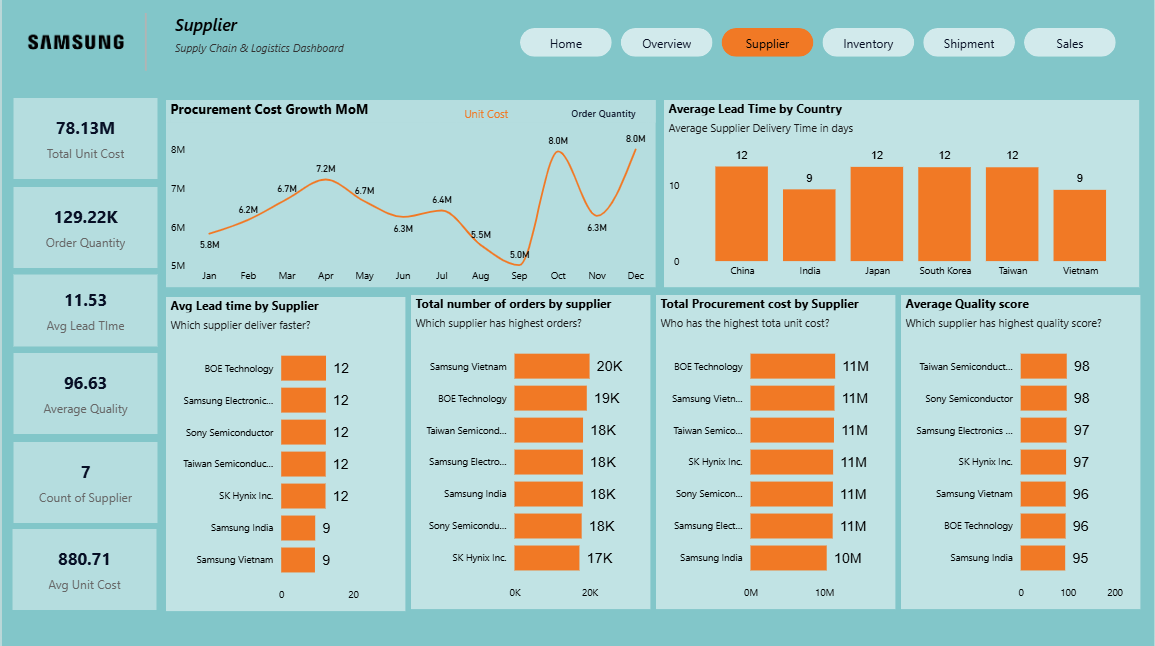

This screenshot's page, from the dashboard's own definition file:
{"tool":"powerbi","page":{"name":"Supplier","canvas":[1280,720],"ordinal":2},"visuals":[{"type":"shape","title":"Supplier","box":[192,16,224,64],"z":0},{"type":"shape","box":[128,16,64,64],"z":1000},{"type":"image","box":[16,16,128,64],"z":2000},{"type":"cardVisual","fields":{"Data":["MeasuresTable.Order_QTY"]},"box":[7.7,209,170,90],"z":3000},{"type":"cardVisual","fields":{"Data":["MeasuresTable.Avg_Lead_TIme"]},"box":[7.7,301,170,90],"z":4000},{"type":"cardVisual","fields":{"Data":["fact_procurement.Avg_Quality_score"]},"box":[7.7,393,170,90],"z":5000},{"type":"cardVisual","fields":{"Data":["fact_procurement.Avg_Unit_Cost"]},"box":[7,589,170,90],"z":6000},{"type":"cardVisual","fields":{"Data":["CountNonNull(dim_supplier.supplier_id)"]},"box":[7.7,492,170,90],"z":7000},{"type":"cardVisual","fields":{"Data":["fact_procurement.Total_Unit_Cost"]},"box":[7.7,109.7,170,90],"z":8000},{"type":"clusteredBarChart","title":"Avg Lead time by Supplier","fields":{"Y":["MeasuresTable.Avg_Lead_TIme"],"Category":["dim_supplier.supplier_name"]},"box":[181.8,331.7,266,349],"z":9000},{"type":"clusteredBarChart","title":"Total number of orders by supplier","fields":{"Category":["dim_supplier.supplier_name"],"Y":["MeasuresTable.Order_QTY"]},"box":[454,329.1,266,349],"z":10000},{"type":"clusteredBarChart","title":"Total Procurement cost by Supplier","fields":{"Y":["fact_procurement.Total_Unit_Cost"],"Category":["dim_supplier.supplier_name"]},"box":[726.2,329.1,266,349],"z":11000},{"type":"clusteredColumnChart","title":"Average Lead Time by Country","fields":{"Category":["dim_supplier.country","dim_supplier.supplier_name"],"Y":["MeasuresTable.Avg_Lead_TIme"]},"box":[736,112,528,208],"z":12000},{"type":"clusteredBarChart","title":"Average Quality score","fields":{"Y":["fact_procurement.Avg_Quality_score"],"Category":["dim_supplier.supplier_name"]},"box":[998.4,329.1,266,349],"z":13000},{"type":"lineChart","title":"Procurement Cost Growth MoM","fields":{"Y":["fact_procurement.Total_Unit_Cost"],"Category":["dim_date.Month_Short"]},"box":[182,112,544,208],"z":14000},{"type":"advancedSlicerVisual","fields":{"Values":["Cost_Qty_Supplier.Cost_Qty_Supplier"]},"box":[496,96,240,64],"z":15000},{"type":"pageNavigator","box":[576,32,664,32],"z":16000}]}

Visuals, with their boxes in screenshot pixels (x1, y1, x2, y2), scaled from the page's 1280x720 canvas onto the 1155x646 screenshot:
"Supplier" shape: rect(173, 14, 375, 72)
shape: rect(116, 14, 173, 72)
image: rect(14, 14, 130, 72)
cardVisual - MeasuresTable.Order_QTY: rect(7, 188, 160, 268)
cardVisual - MeasuresTable.Avg_Lead_TIme: rect(7, 270, 160, 351)
cardVisual - fact_procurement.Avg_Quality_score: rect(7, 353, 160, 433)
cardVisual - fact_procurement.Avg_Unit_Cost: rect(6, 528, 160, 609)
cardVisual - CountNonNull(dim_supplier.supplier_id): rect(7, 441, 160, 522)
cardVisual - fact_procurement.Total_Unit_Cost: rect(7, 98, 160, 179)
"Avg Lead time by Supplier" clusteredBarChart: rect(164, 298, 404, 611)
"Total number of orders by supplier" clusteredBarChart: rect(410, 295, 650, 608)
"Total Procurement cost by Supplier" clusteredBarChart: rect(655, 295, 895, 608)
"Average Lead Time by Country" clusteredColumnChart: rect(664, 100, 1141, 287)
"Average Quality score" clusteredBarChart: rect(901, 295, 1141, 608)
"Procurement Cost Growth MoM" lineChart: rect(164, 100, 655, 287)
advancedSlicerVisual - Cost_Qty_Supplier.Cost_Qty_Supplier: rect(448, 86, 664, 144)
pageNavigator: rect(520, 29, 1119, 57)
